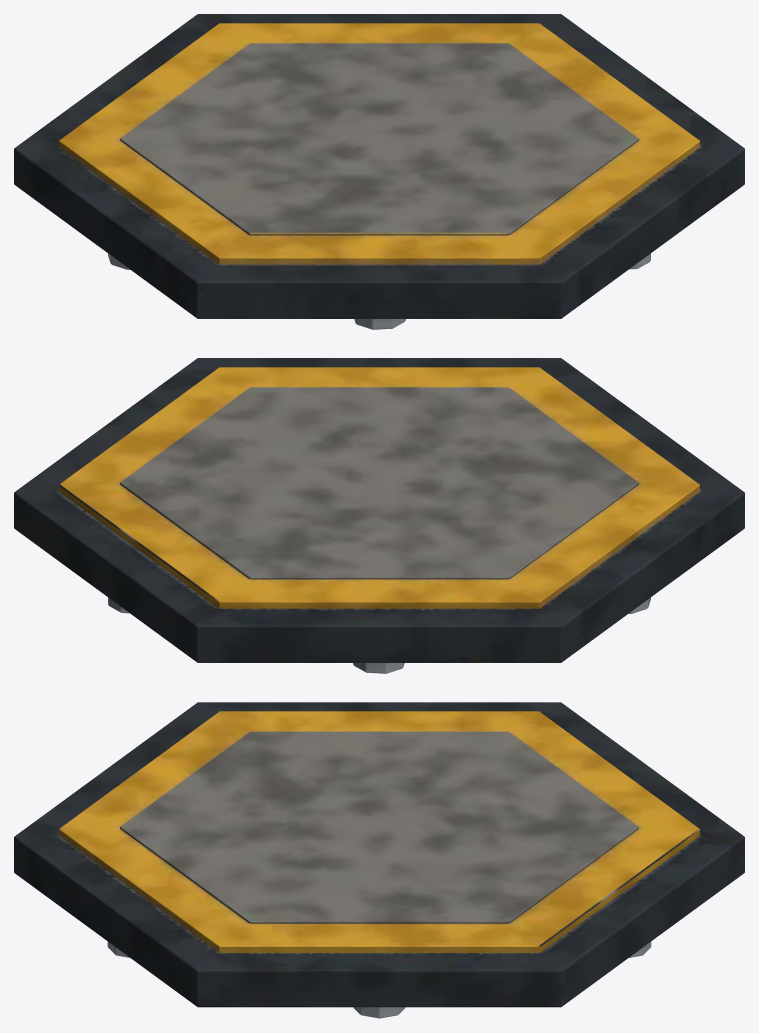
Rendered from platform_hex.glb.
3 renders of one model, top to bottom at view 1: azimuth 30°, elevation 25°; view 2: azimuth 150°, elevation 25°; view 3: azimuth 270°, elevation 25°, orthographic.
Visible parts, largest first — view 1: PlatformHex; view 2: PlatformHex; view 3: PlatformHex.
Boxes of the visible parts, <box> form: PlatformHex: <box>14,14,744,329</box>; PlatformHex: <box>14,358,744,673</box>; PlatformHex: <box>14,702,744,1018</box>.
Bounding box in the file's own units: 4.16 × 0.4452 × 4.78.
Materials: 1 (1 with a texture image).
